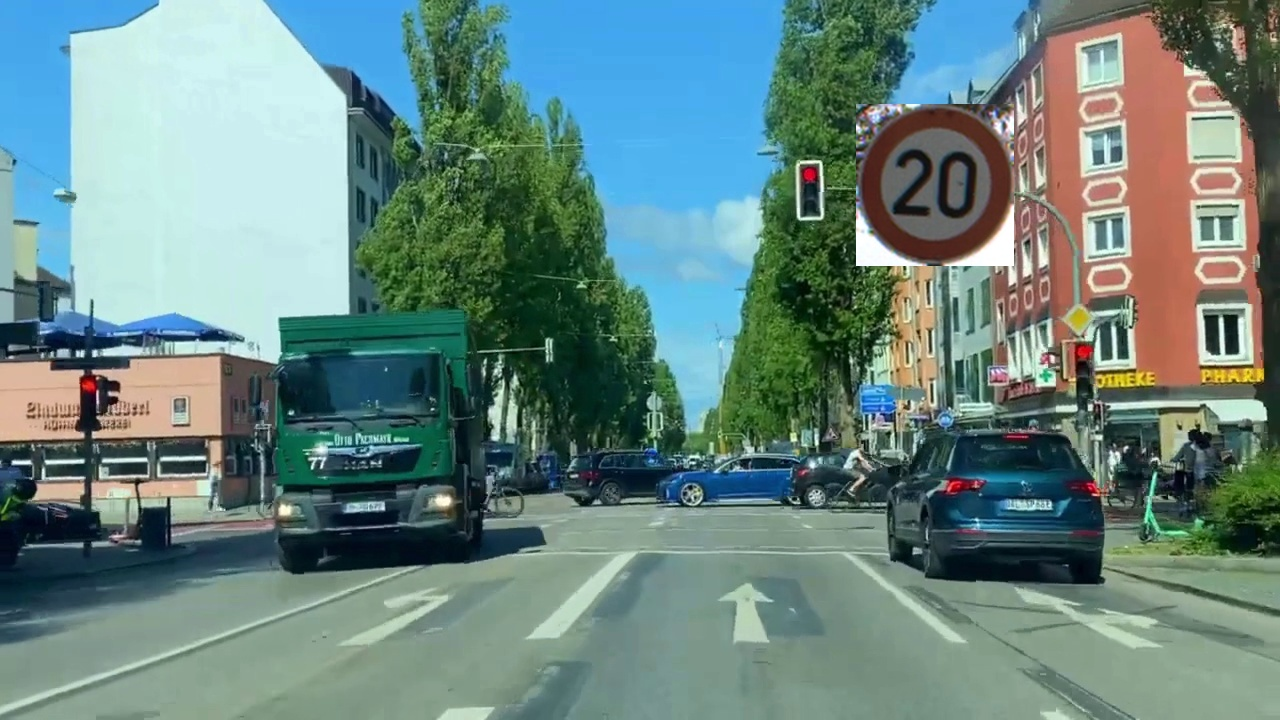Speed 20: (856, 104, 1014, 266)
